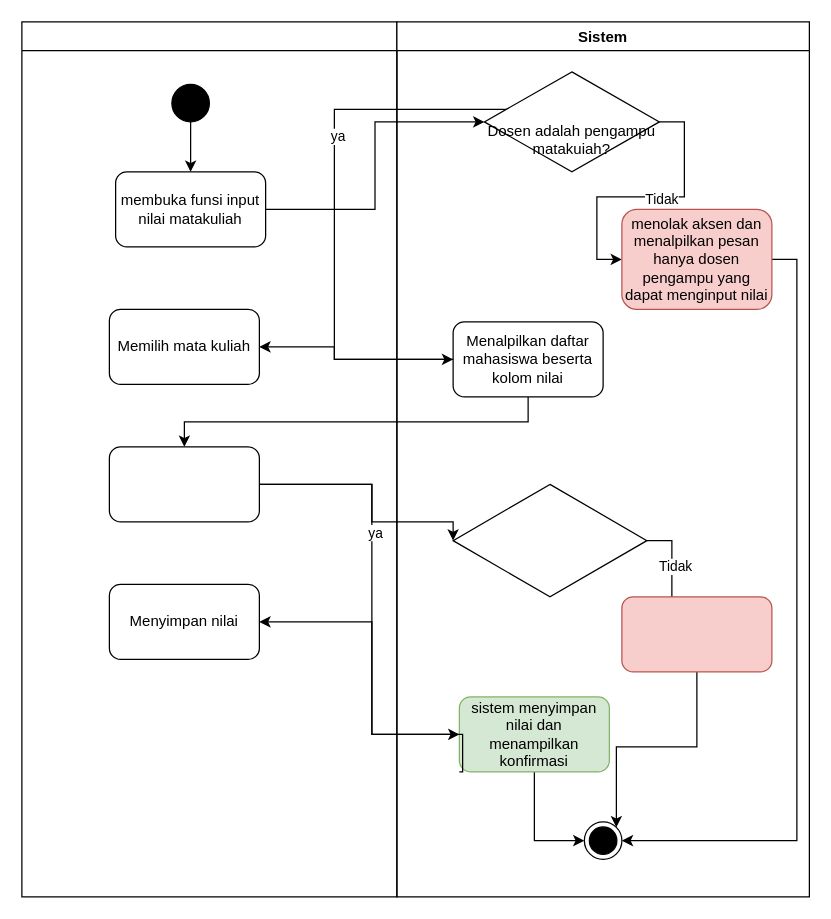
The diagram is 831 pixels wide and 919 high, and some of its shapes have lost their labels. The box of each missing label's shape, as (x1, y1, x2, y2) in pixels:
Dosen: (21, 21, 397, 897)
Mengisi nilai setiap mahasiswa: (108, 446, 259, 522)
Menolak penyimpanan dan menampilkan pesan nilai diluar rentang: (621, 596, 772, 672)
Nilai berada dalam rentang yang sah?: (452, 483, 647, 597)
